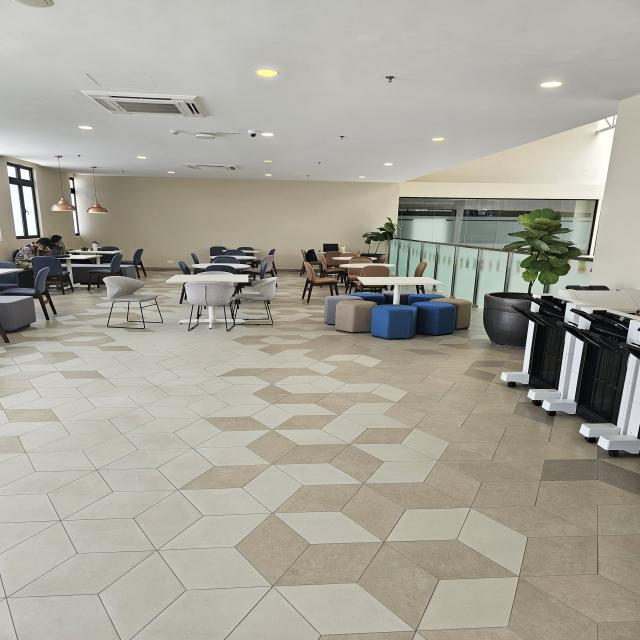footpath: (8, 362, 504, 640)
obstacle: (527, 287, 640, 457), (324, 275, 471, 330), (164, 270, 275, 326), (91, 270, 161, 330), (477, 290, 532, 350)
